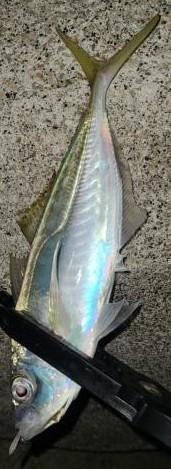fish: (5, 15, 159, 443)
